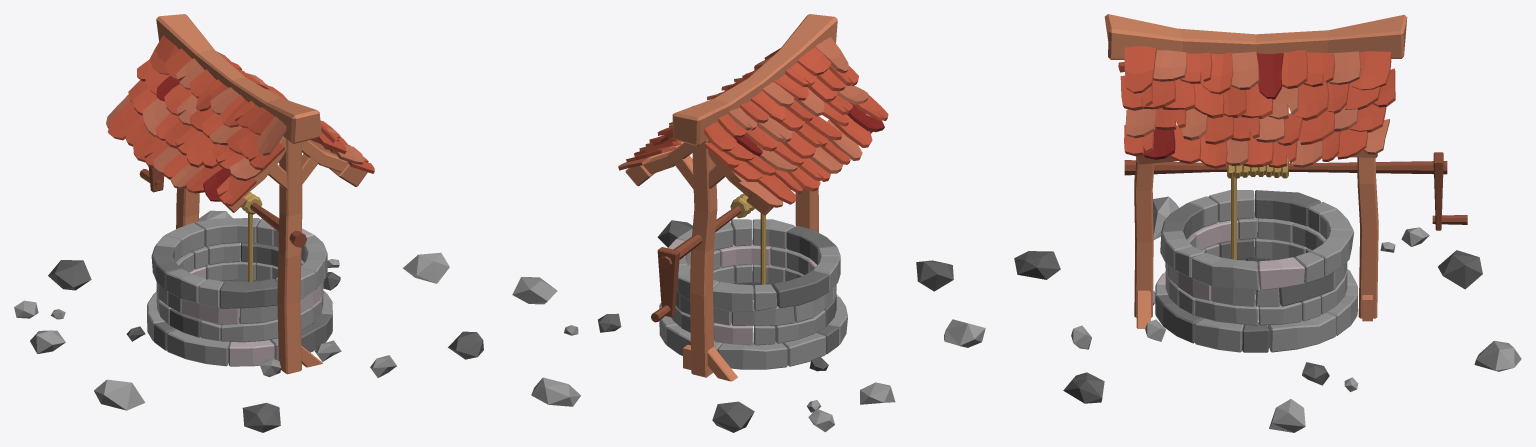
Rendered from Sketchfab_2023_03_05_21_38_32.fbx.
The picture shows the model from 3 angles, left to right: view 1: azimuth 30°, elevation 25°; view 2: azimuth 150°, elevation 25°; view 3: azimuth 270°, elevation 25°; orthographic projection. The views are drawn at different scales.
Parts seen in each view (by area): view 1: Cube, Plane.010, Cube.020, Icosphere.014, Cylinder.001, Cylinder.003; view 2: Cube, Plane.010, Cube.020, Icosphere.014, Cylinder.001, Cylinder.003; view 3: Plane.010, Cube, Cube.020, Icosphere.014, Cylinder.001, Cylinder.003.
Boxes of the visible parts, x1,y1,x2,y2 form: Cube: (147, 218, 332, 366); Plane.010: (106, 35, 374, 206); Cube.020: (156, 14, 367, 374); Icosphere.014: (14, 210, 483, 432); Cylinder.001: (139, 167, 306, 247); Cylinder.003: (240, 192, 262, 281); Cube: (659, 219, 847, 369); Plane.010: (618, 37, 888, 207); Cube.020: (625, 14, 872, 381); Icosphere.014: (512, 220, 985, 432); Cylinder.001: (651, 206, 741, 322); Cylinder.003: (730, 193, 765, 284); Plane.010: (1118, 46, 1395, 168); Cube: (1155, 190, 1357, 352); Cube.020: (1104, 14, 1407, 328); Icosphere.014: (1014, 196, 1521, 432); Cylinder.001: (1124, 152, 1467, 230); Cylinder.003: (1227, 157, 1288, 259).
Bounding box in the file's own units: 4275 × 2806 × 4302.
